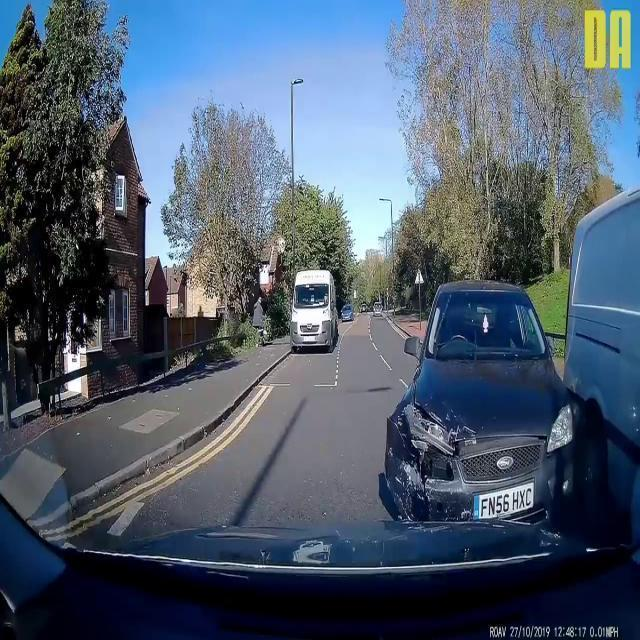accident: (384, 183, 640, 544)
non-accident: (289, 268, 353, 354)
